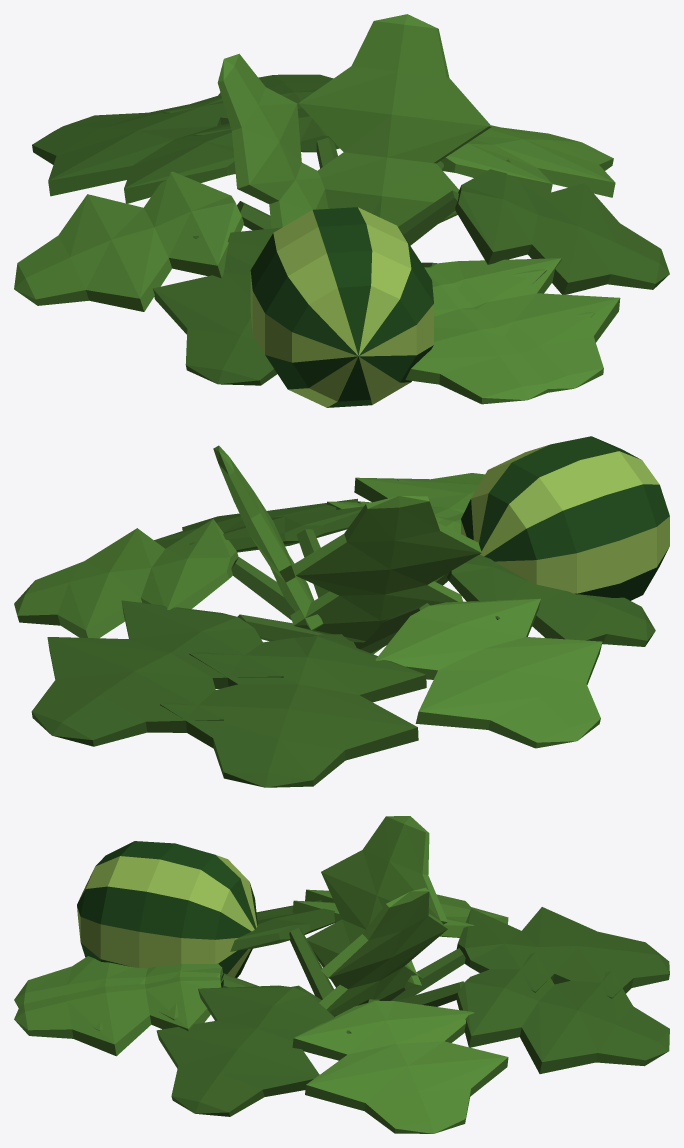
File: watermelon_3.gltf
3 views of the same model, one above another, from view 1: azimuth 30°, elevation 25°; view 2: azimuth 150°, elevation 25°; view 3: azimuth 270°, elevation 25° (orthographic). The views are drawn at different scales.
Visible parts, largest first — view 1: watermelon_3; view 2: watermelon_3; view 3: watermelon_3.
Boxes of the visible parts, x1,y1,x2,y2 form: watermelon_3: (14, 14, 669, 407); watermelon_3: (14, 436, 669, 787); watermelon_3: (14, 816, 669, 1133).
Size of the model in its own units: 0.6514 by 0.2382 by 0.761.
